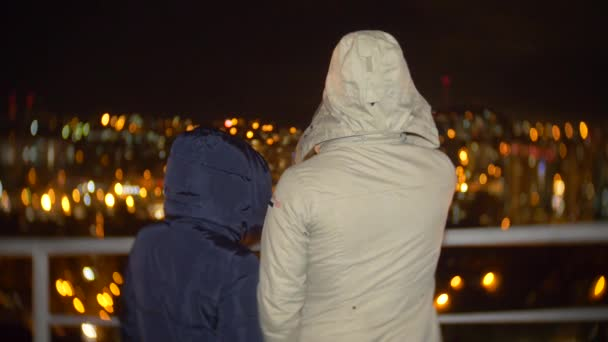Humano: (266, 29, 461, 342), (116, 121, 274, 342)
